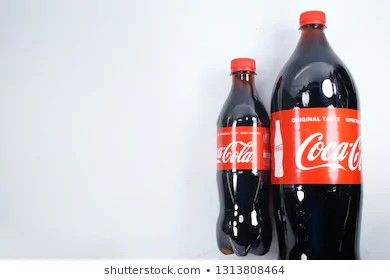coke-bottle-2l: (272, 11, 363, 258)
coke-bottle-700ml: (216, 57, 272, 260)
